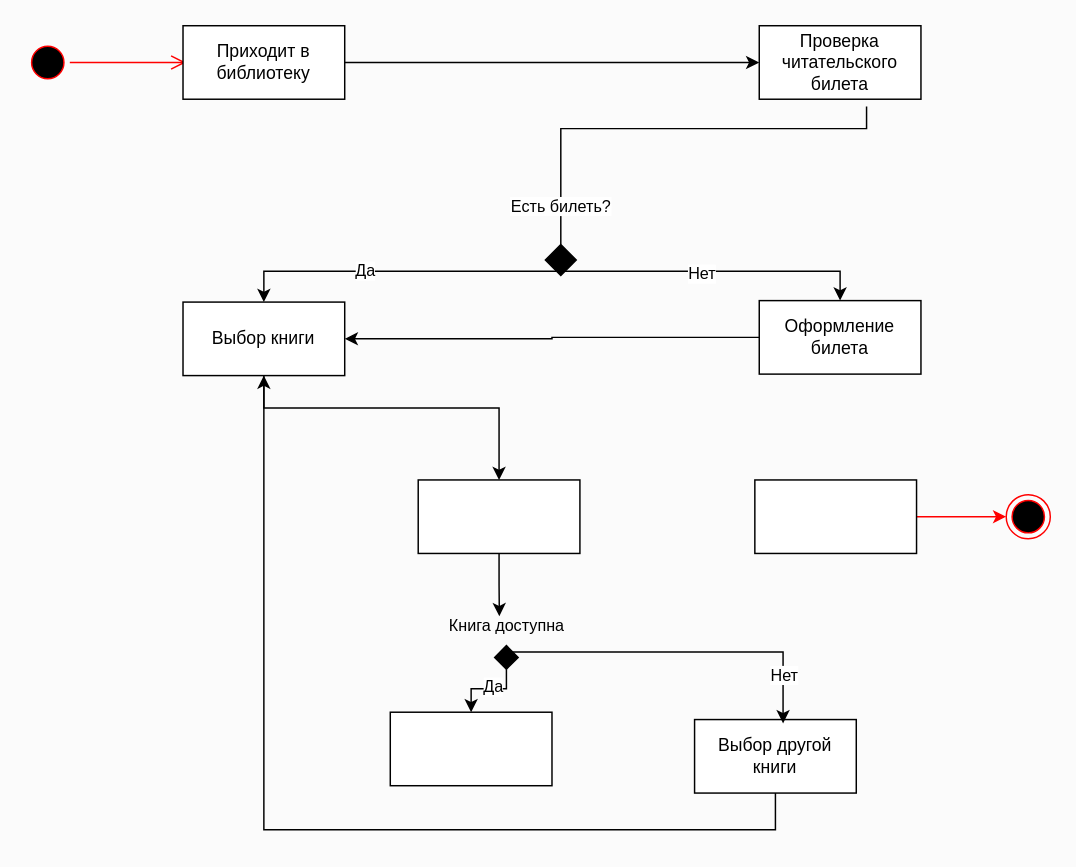
Some shapes in this 1076 by 867 pixel diagram are drawn without their labels. The shapes that lost their labels are listed below. From the top down, each one's centre as x and y in pixels, then its label:
the point at 498,515: Проверка доступности книги
the point at 835,515: Перадача книги
the point at 470,748: Регистрация выдачи книги
